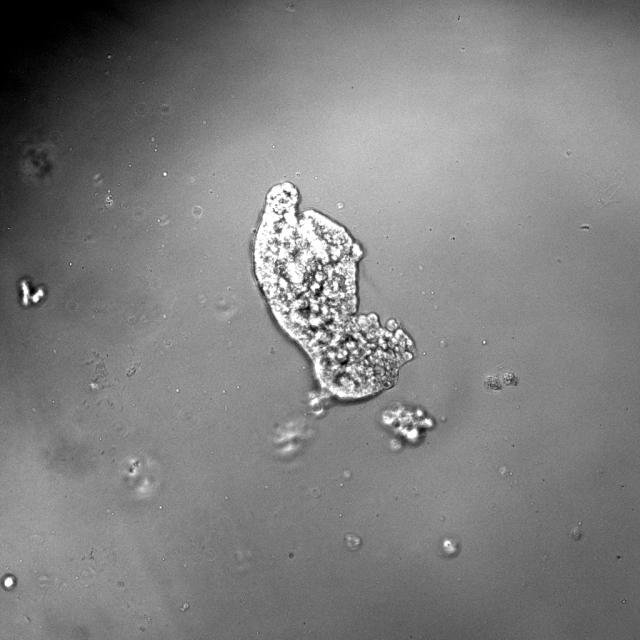organoid: (253, 182, 414, 400), (380, 403, 435, 444), (17, 277, 48, 308), (0, 572, 16, 591), (484, 376, 501, 391), (503, 371, 516, 385)
